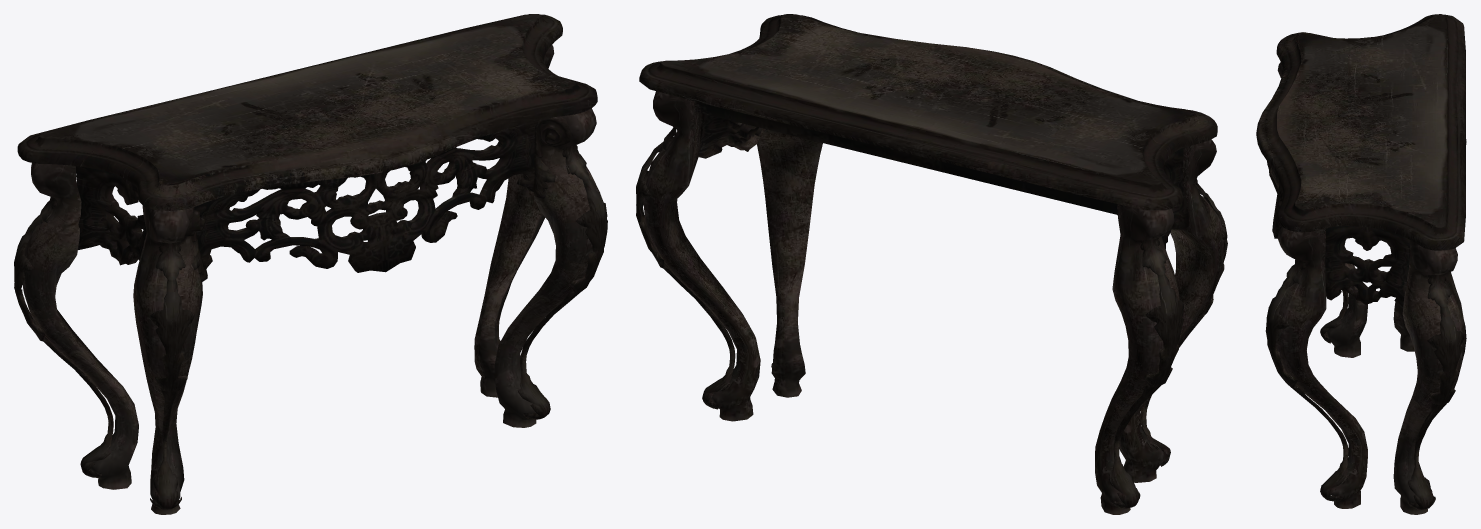
Rendered from ClassicConsole_01.glb.
The picture shows the model from 3 angles, left to right: view 1: azimuth 30°, elevation 25°; view 2: azimuth 150°, elevation 25°; view 3: azimuth 270°, elevation 25°; orthographic projection. The views are drawn at different scales.
Visible parts, largest first — view 1: ClassicConsole_01; view 2: ClassicConsole_01; view 3: ClassicConsole_01.
Part boxes in pixels (x1,y1,x2,y2): ClassicConsole_01: [14, 14, 607, 514]; ClassicConsole_01: [636, 14, 1227, 514]; ClassicConsole_01: [1256, 14, 1466, 514].
Size of the model in its own units: 1.54 by 0.9491 by 0.5892.
Materials: 1 (1 with a texture image).
